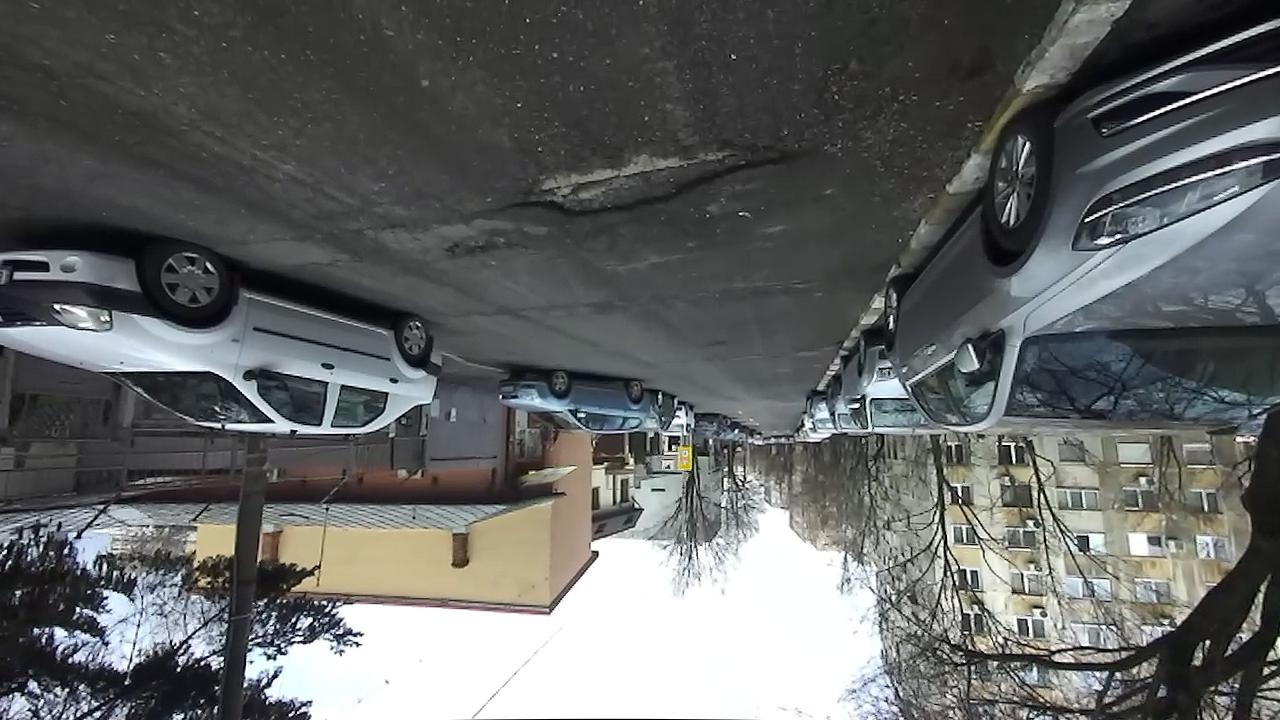pothole: (492, 130, 801, 221), (437, 234, 518, 266)
